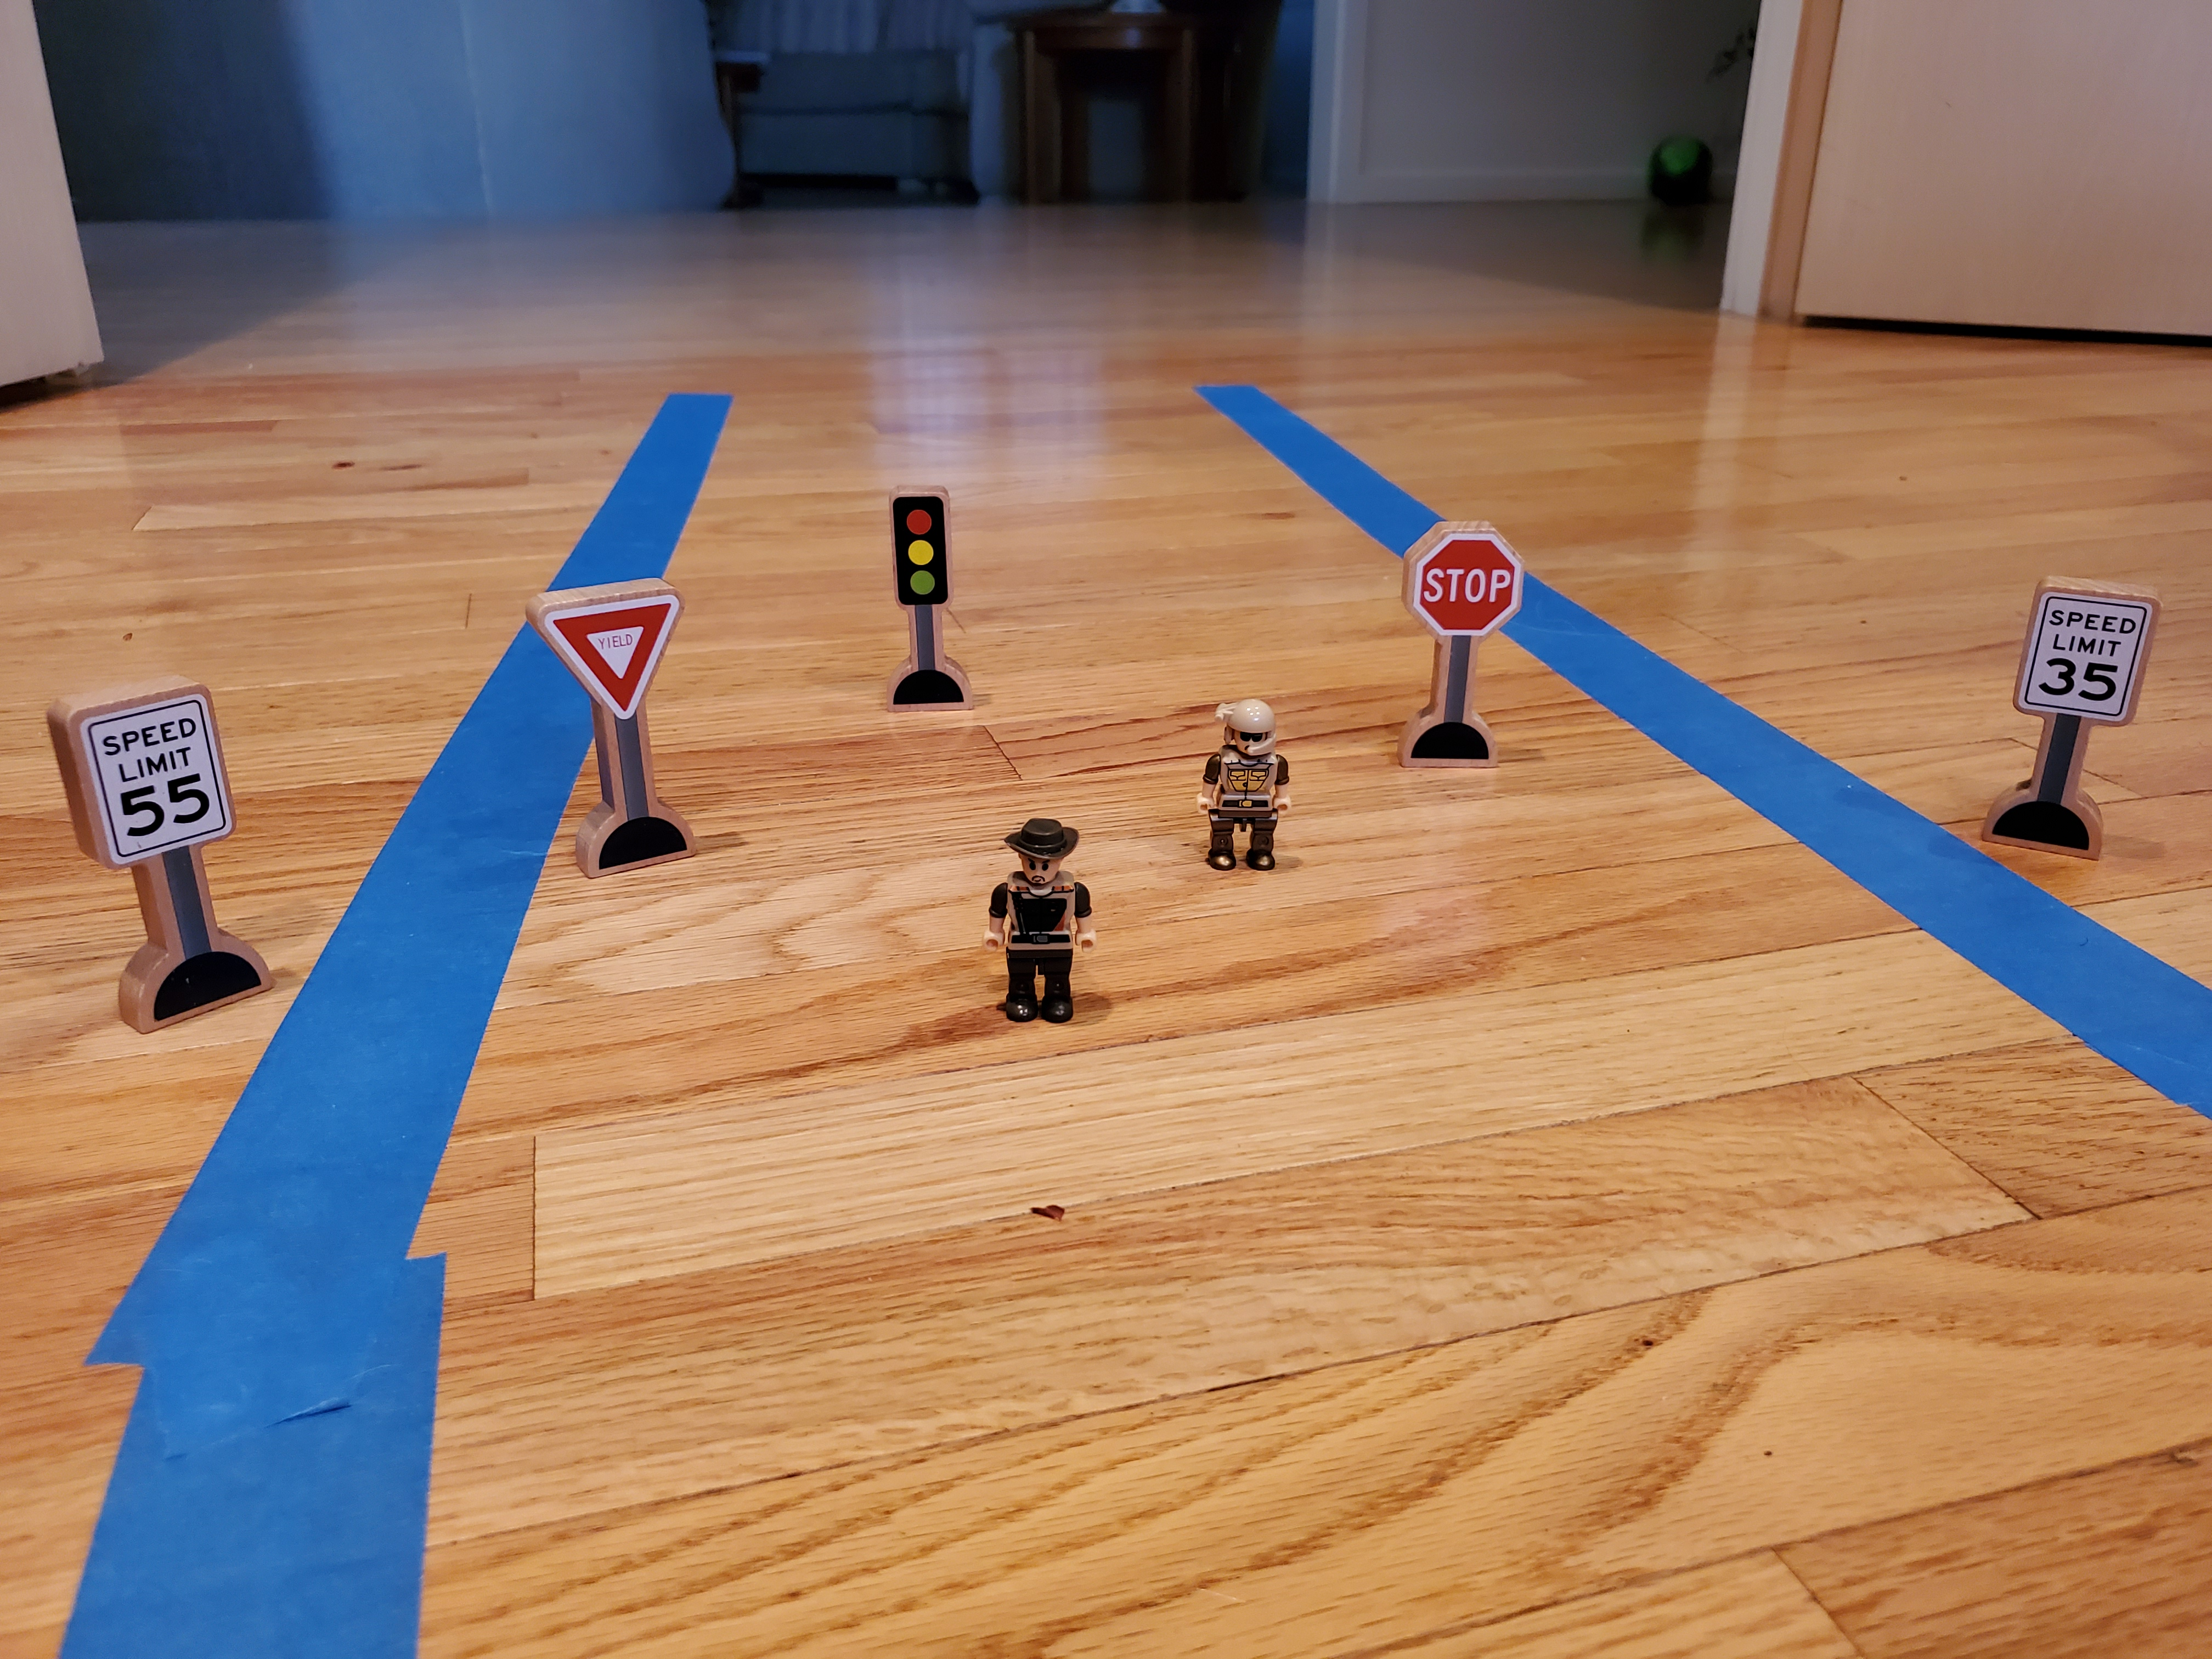Red Traffic Light: (885, 477, 960, 614)
Speed Limit 35: (2013, 564, 2164, 738)
Speed Limit 55: (47, 686, 249, 864)
Stop Sign: (1399, 506, 1531, 652)
Yield Sign: (512, 585, 693, 729)
person: (978, 808, 1105, 1036), (1192, 698, 1303, 885)
